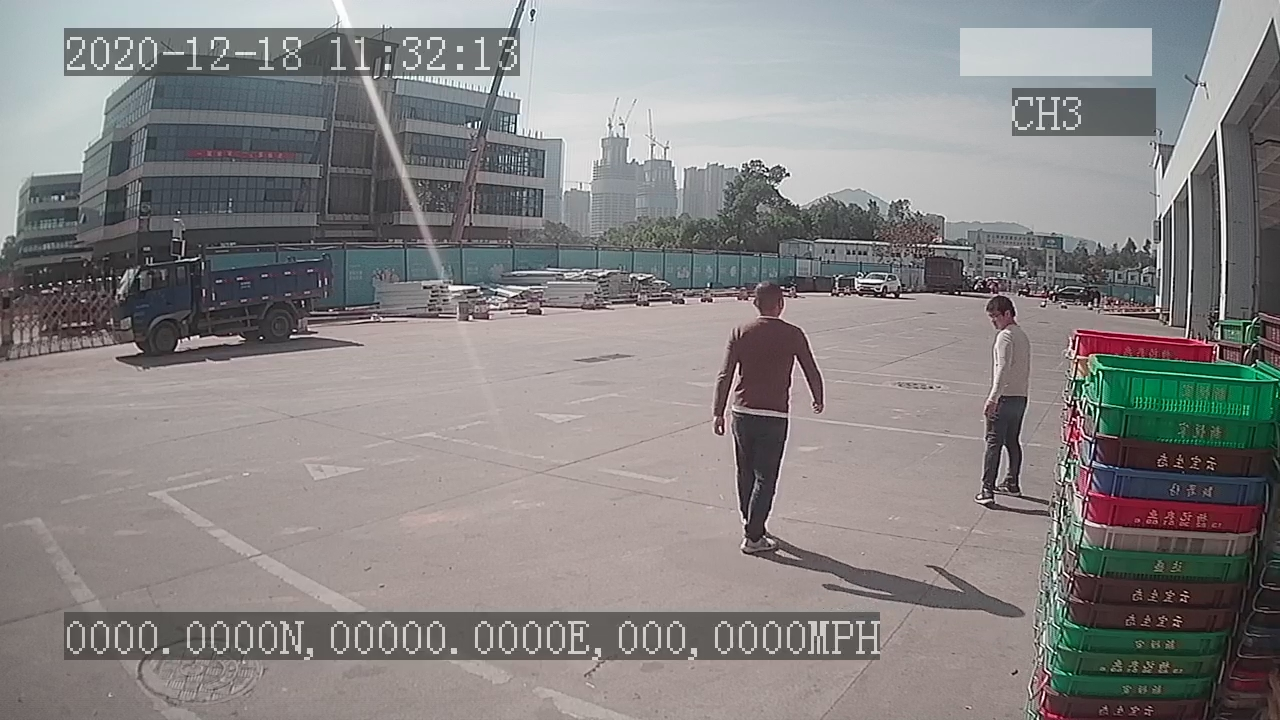person: (711, 277, 825, 556), (975, 289, 1031, 508)
